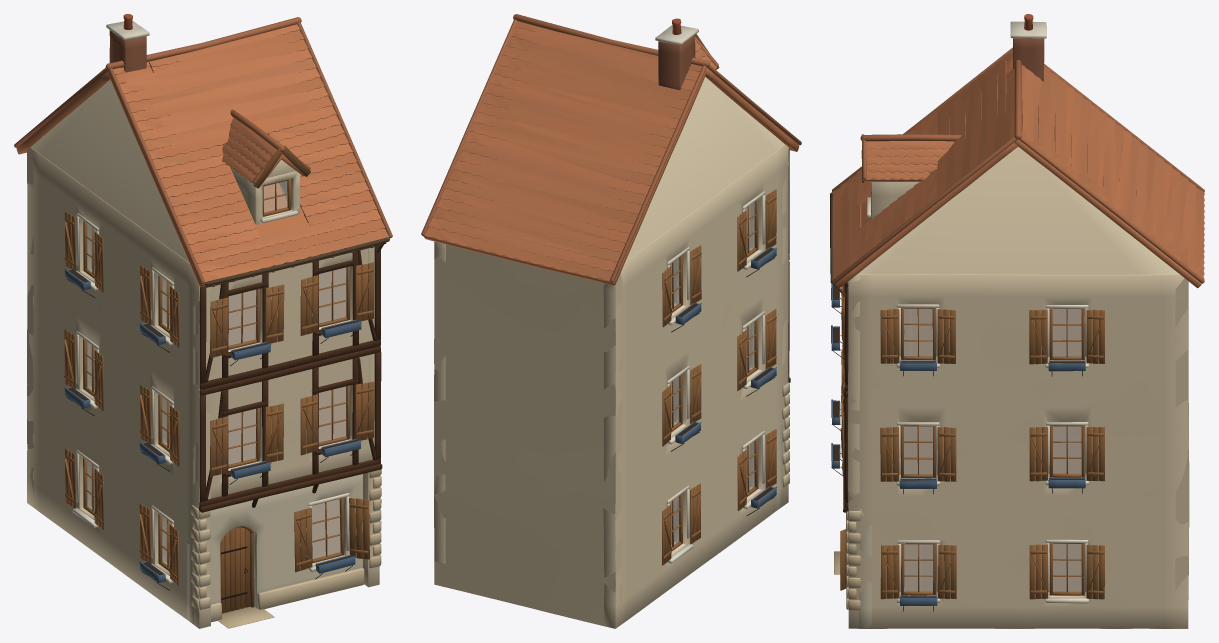
File: GateStreet_BehindOuter1.glb
3 renders of one model, left to right at view 1: azimuth 30°, elevation 25°; view 2: azimuth 150°, elevation 25°; view 3: azimuth 270°, elevation 25°, orthographic.
Parts seen in each view (by area): view 1: Sammel Putz, Sammel Stein, Sammel Holz, Sammel Quader, Glas, Sammel Putz innen, Sammel Lack, Sammel Metall, Sammel Ziegel; view 2: Sammel Putz, Sammel Stein, Sammel Holz, Glas, Sammel Ziegel, Sammel Lack, Sammel Putz innen, Sammel Quader; view 3: Sammel Putz, Sammel Stein, Sammel Holz, Sammel Putz innen, Glas, Sammel Lack, Sammel Ziegel, Sammel Quader.
Boxes of the visible parts, <box> form: Sammel Putz: <box>27,14,379,628</box>; Sammel Stein: <box>14,17,392,628</box>; Sammel Holz: <box>64,146,386,613</box>; Sammel Quader: <box>187,474,362,624</box>; Glas: <box>87,181,346,566</box>; Sammel Putz innen: <box>91,227,346,563</box>; Sammel Lack: <box>64,268,361,582</box>; Sammel Metall: <box>66,237,389,599</box>; Sammel Ziegel: <box>109,30,146,72</box>; Sammel Putz: <box>434,18,788,628</box>; Sammel Stein: <box>421,14,801,487</box>; Sammel Holz: <box>662,34,790,565</box>; Glas: <box>669,202,754,546</box>; Sammel Ziegel: <box>658,35,695,90</box>; Sammel Lack: <box>675,247,777,508</box>; Sammel Putz innen: <box>669,205,750,543</box>; Sammel Quader: <box>776,423,783,510</box>; Sammel Putz: <box>832,14,1189,628</box>; Sammel Stein: <box>832,47,1204,610</box>; Sammel Holz: <box>834,134,1104,599</box>; Sammel Putz innen: <box>904,308,1084,591</box>; Glas: <box>904,308,1081,591</box>; Sammel Lack: <box>831,283,1086,605</box>; Sammel Ziegel: <box>1013,38,1044,81</box>; Sammel Quader: <box>859,509,871,628</box>.
Size of the model in its own units: 5.84 by 14.34 by 9.09.
